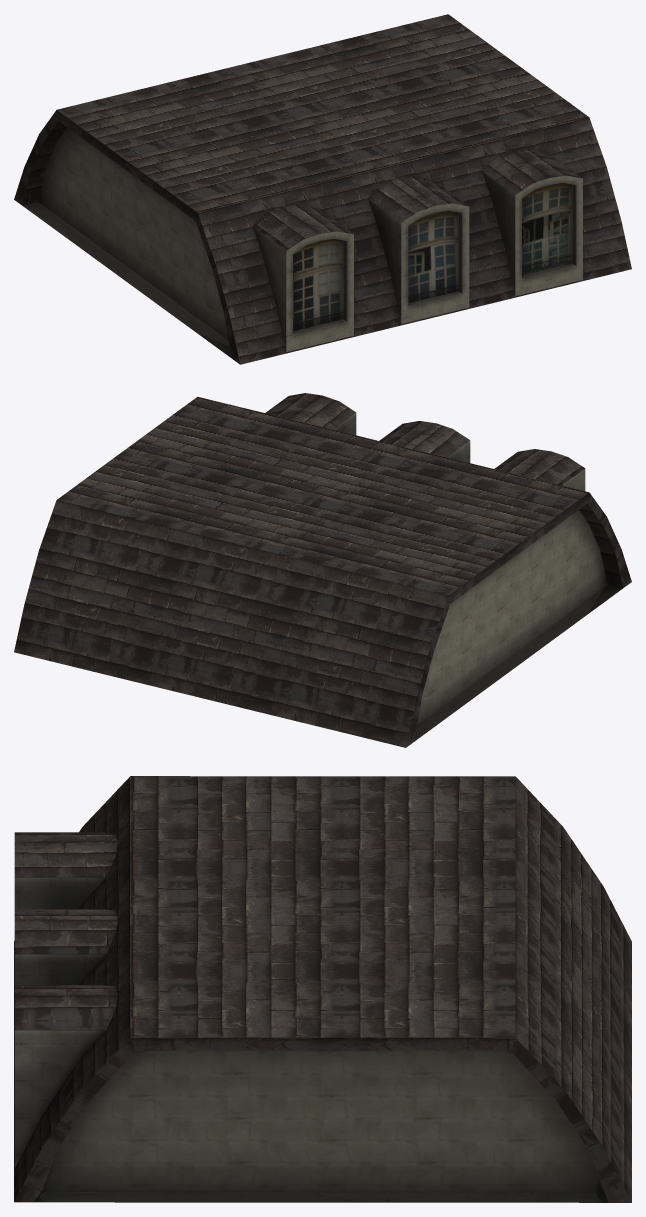
Rendered from Roof.fbx.
3 renders of one model, top to bottom at view 1: azimuth 30°, elevation 25°; view 2: azimuth 150°, elevation 25°; view 3: azimuth 270°, elevation 25°, orthographic. The views are drawn at different scales.
Parts seen in each view (by area): view 1: Roof; view 2: Roof; view 3: Roof.
Part boxes in pixels (x1,y1,x2,y2): Roof: (14,14,631,364); Roof: (14,393,631,747); Roof: (14,776,631,1202).
Size of the model in its own units: 7.07 by 2.09 by 7.07.
